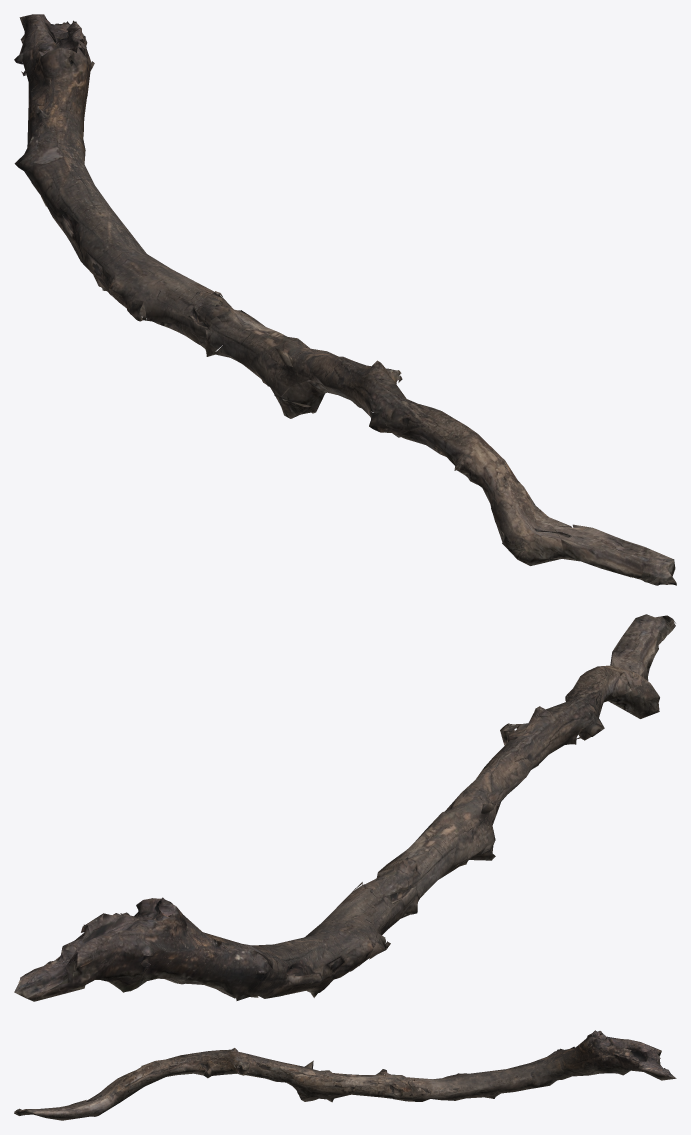
File: branch_01.glb
3 renders of one model, top to bottom at view 1: azimuth 30°, elevation 25°; view 2: azimuth 150°, elevation 25°; view 3: azimuth 270°, elevation 25°, orthographic. The views are drawn at different scales.
Visible parts, largest first — view 1: branch_01; view 2: branch_01; view 3: branch_01.
Part boxes in pixels (left/top/right/bottom): branch_01: left=14, top=14, right=676, bottom=585; branch_01: left=14, top=614, right=675, bottom=1001; branch_01: left=14, top=1030, right=676, bottom=1120.
Bounding box in the file's own units: 0.149 × 0.1413 × 1.04.
1 material, 1 textured.
